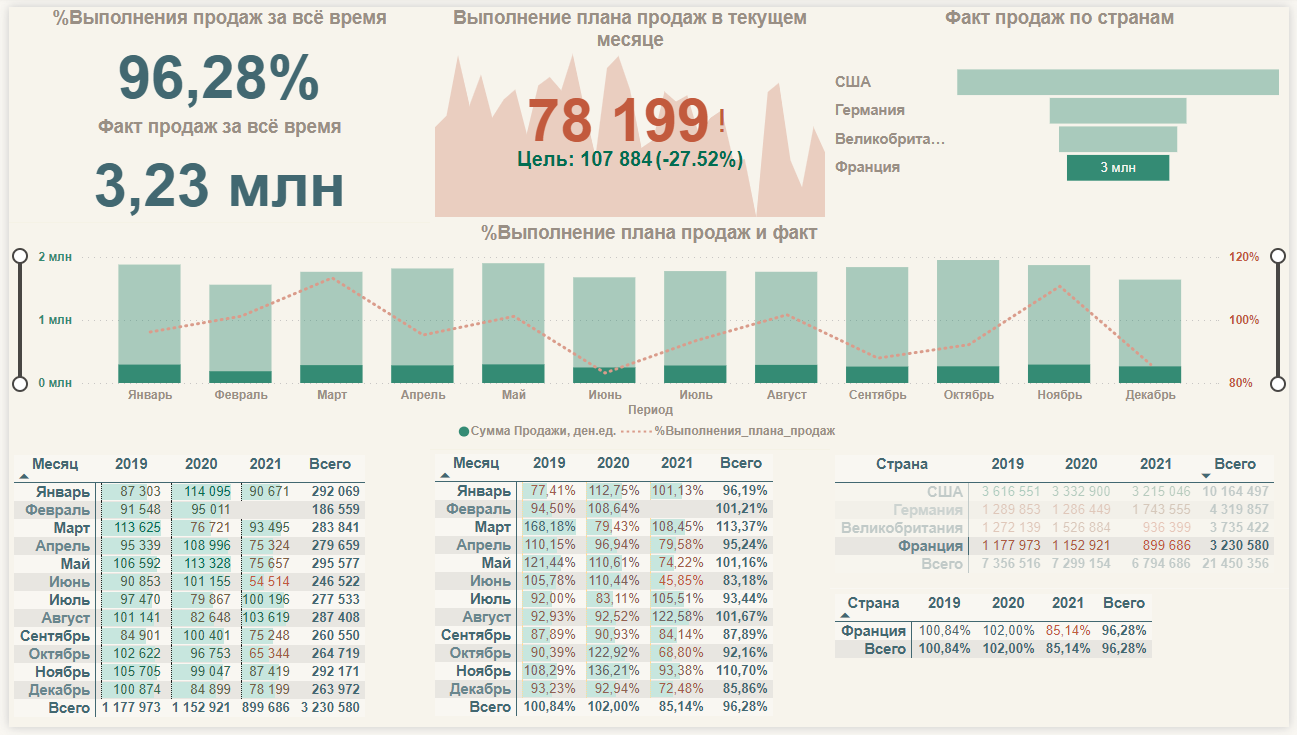

What the dashboard file says about the page in this screenshot:
{"tool":"powerbi","page":{"name":"Выполнение плана продаж","canvas":[1280,720],"ordinal":0},"visuals":[{"type":"pivotTable","fields":{"Values":["Факт.%Выполнения_плана_продаж"],"Columns":["Календарь.Дата ДЕНЬ.Изменение.Иерархия дат.Год"],"Rows":["Календарь.Дата ДЕНЬ.Изменение.Иерархия дат.Месяц"]},"box":[421.1,442.5,399.7,277.2],"z":0},{"type":"funnel","title":"Факт продаж по странам","fields":{"Category":["Факт.Страна"],"Y":["Sum(Факт.Продажи, ден.ед.)"]},"box":[829.1,0,450.9,215.3],"z":1000},{"type":"kpi","title":"Выполнение плана продаж в текущем месяце","fields":{"Indicator":["Sum(Факт.Продажи, ден.ед.)"],"TrendLine":["Календарь.Дата ДЕНЬ"],"Goal":["Sum(План.План продаж ден.ед.)"]},"box":[421.1,0,399.7,215.3],"z":1001},{"type":"pivotTable","fields":{"Columns":["Календарь.Дата ДЕНЬ.Изменение.Иерархия дат.Год"],"Values":["Sum(Факт.Продажи, ден.ед.)"],"Rows":["Календарь.Дата ДЕНЬ.Изменение.Иерархия дат.Месяц"]},"box":[0,442.5,412.8,277.2],"z":1002},{"type":"card","title":"%Выполнения продаж за всё время","fields":{"Values":["Факт.%Выполнения_плана_продаж"]},"box":[0,0,412.8,108.3],"z":1003},{"type":"pivotTable","fields":{"Values":["Факт.%Выполнения_плана_продаж"],"Columns":["Календарь.Дата ДЕНЬ.Изменение.Иерархия дат.Год"],"Rows":["План.Страна"]},"box":[829.1,442.5,450.9,139.2],"z":1004},{"type":"card","title":"Факт продаж за всё время","fields":{"Values":["Sum(Факт.Продажи, ден.ед.)"]},"box":[0,108.3,412.8,108.3],"z":1005},{"type":"pivotTable","fields":{"Columns":["Календарь.Дата ДЕНЬ.Изменение.Иерархия дат.Год"],"Rows":["План.Страна"],"Values":["Sum(Факт.Продажи, ден.ед.)"]},"box":[829.1,587.6,450.9,132],"z":1006},{"type":"lineStackedColumnComboChart","title":"%Выполнение плана продаж и факт","fields":{"Y":["Sum(Факт.Продажи, ден.ед.)"],"Y2":["Факт.%Выполнения_плана_продаж"],"Category":["Календарь.Дата ДЕНЬ.Изменение.Иерархия дат.Год","Календарь.Дата ДЕНЬ.Изменение.Иерархия дат.Месяц"]},"box":[0,219.2,1280,218.1],"z":1007}]}

Visuals, with their boxes in screenshot pixels (x1, y1, x2, y2), scaled from the page's 1280x720 canvas onto the 1297x735 screenshot:
pivotTable - Факт.%Выполнения_плана_продаж x Календарь.Дата ДЕНЬ.Изменение.Иерархия дат.Год: {"x1": 427, "y1": 452, "x2": 832, "y2": 734}
"Факт продаж по странам" funnel: {"x1": 840, "y1": 0, "x2": 1296, "y2": 220}
"Выполнение плана продаж в текущем месяце" kpi: {"x1": 427, "y1": 0, "x2": 832, "y2": 220}
pivotTable - Календарь.Дата ДЕНЬ.Изменение.Иерархия дат.Год x Sum(Факт.Продажи, ден.ед.): {"x1": 0, "y1": 452, "x2": 418, "y2": 734}
"%Выполнения продаж за всё время" card: {"x1": 0, "y1": 0, "x2": 418, "y2": 111}
pivotTable - Факт.%Выполнения_плана_продаж x Календарь.Дата ДЕНЬ.Изменение.Иерархия дат.Год: {"x1": 840, "y1": 452, "x2": 1296, "y2": 594}
"Факт продаж за всё время" card: {"x1": 0, "y1": 111, "x2": 418, "y2": 221}
pivotTable - Календарь.Дата ДЕНЬ.Изменение.Иерархия дат.Год x План.Страна: {"x1": 840, "y1": 600, "x2": 1296, "y2": 734}
"%Выполнение плана продаж и факт" lineStackedColumnComboChart: {"x1": 0, "y1": 224, "x2": 1296, "y2": 446}
